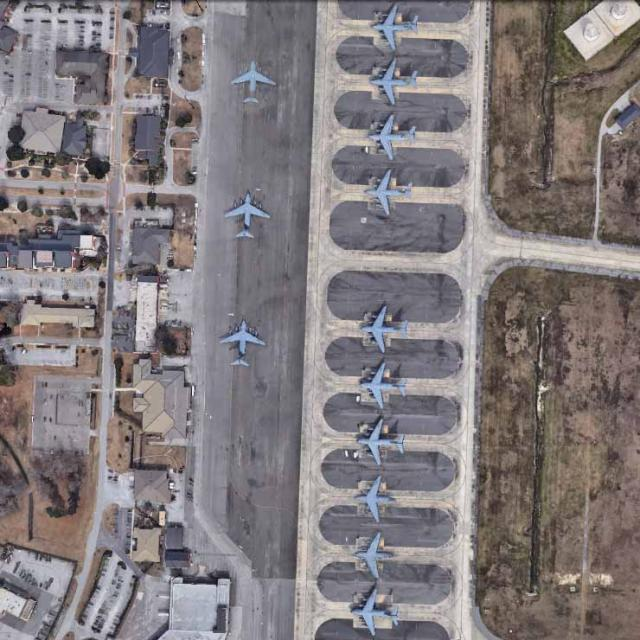fighter jet: (356, 416, 406, 464), (228, 194, 270, 251), (365, 169, 416, 214), (356, 363, 410, 404), (371, 4, 423, 46), (373, 58, 421, 102), (362, 306, 409, 349), (358, 476, 401, 523), (352, 589, 399, 632), (225, 314, 262, 368), (367, 116, 415, 154), (356, 534, 396, 577), (230, 62, 274, 99)
